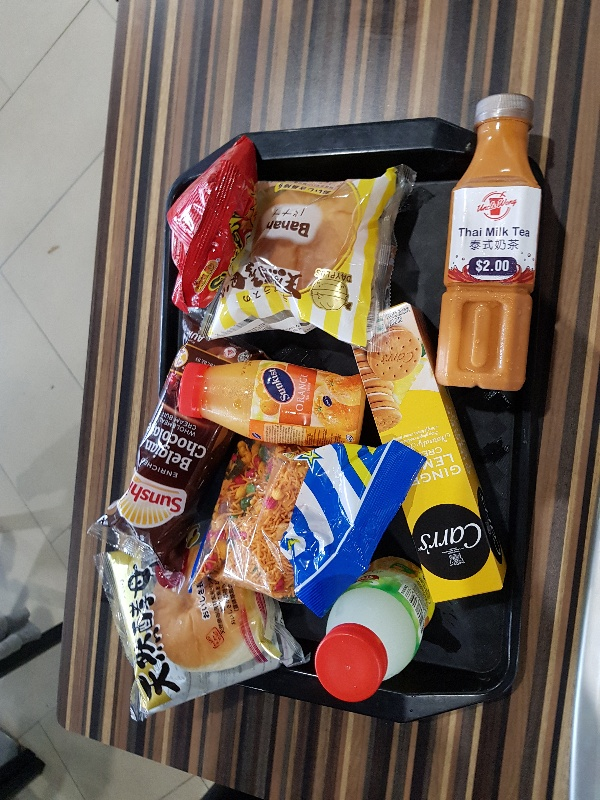Carr's Ginger Lemon Cremes: (351, 301, 508, 604)
Dayplus Banana: (207, 164, 403, 350)
Dayplus Red Bean: (92, 545, 310, 721)
Fruit Tree Yuzu Mixed Juice Drink: (314, 555, 436, 704)
ShoyueMi Spicy Flavoured Snacks: (166, 133, 258, 313)
Star Tidbits Mixer: (185, 438, 427, 618)
Sunkist Orange Juice Drink: (176, 357, 365, 447)
Sunshine Belgium Chocolate Wholemeal Cream Bun: (106, 318, 262, 571)
Thai Milk Tea: (435, 91, 543, 394)
